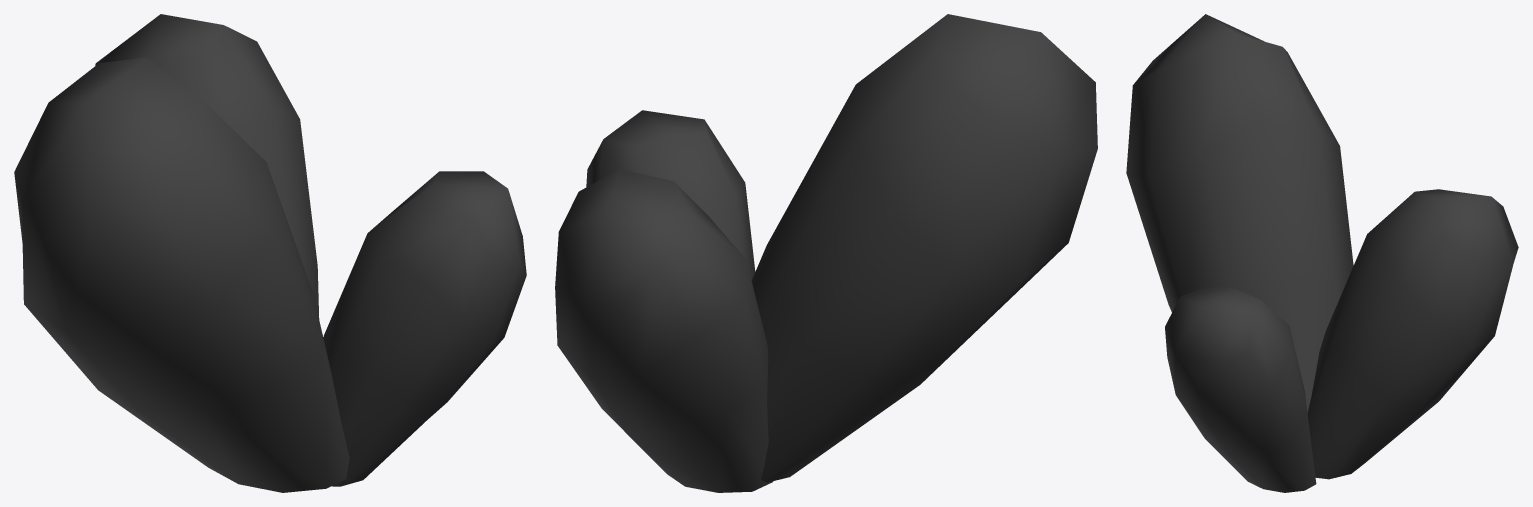
The model's file is Vegetation.glb.
The picture shows the model from 3 angles, left to right: view 1: azimuth 30°, elevation 25°; view 2: azimuth 150°, elevation 25°; view 3: azimuth 270°, elevation 25°; orthographic projection. The views are drawn at different scales.
Parts seen in each view (by area): view 1: geometry_0; view 2: geometry_0; view 3: geometry_0.
Part boxes in pixels (box(x1,y1,x2,y2)): geometry_0: box(14, 14, 526, 492); geometry_0: box(555, 14, 1097, 492); geometry_0: box(1126, 14, 1518, 492).
Size of the model in its own units: 0.4225 by 0.3939 by 0.383.
Materials: 1 (1 with a texture image).
